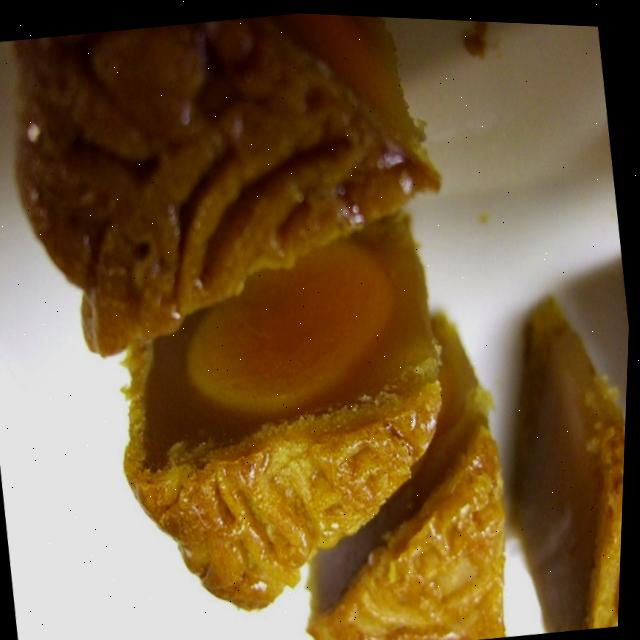蛋糕甜品: (0, 1, 640, 640)
